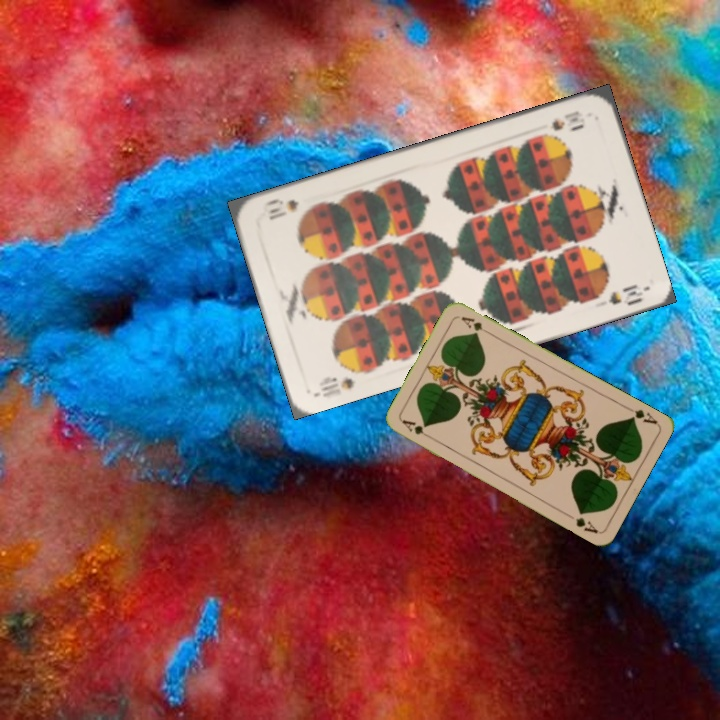GA: (398, 416, 436, 442), (621, 402, 660, 427)
S10: (536, 106, 586, 139), (312, 372, 359, 401)
